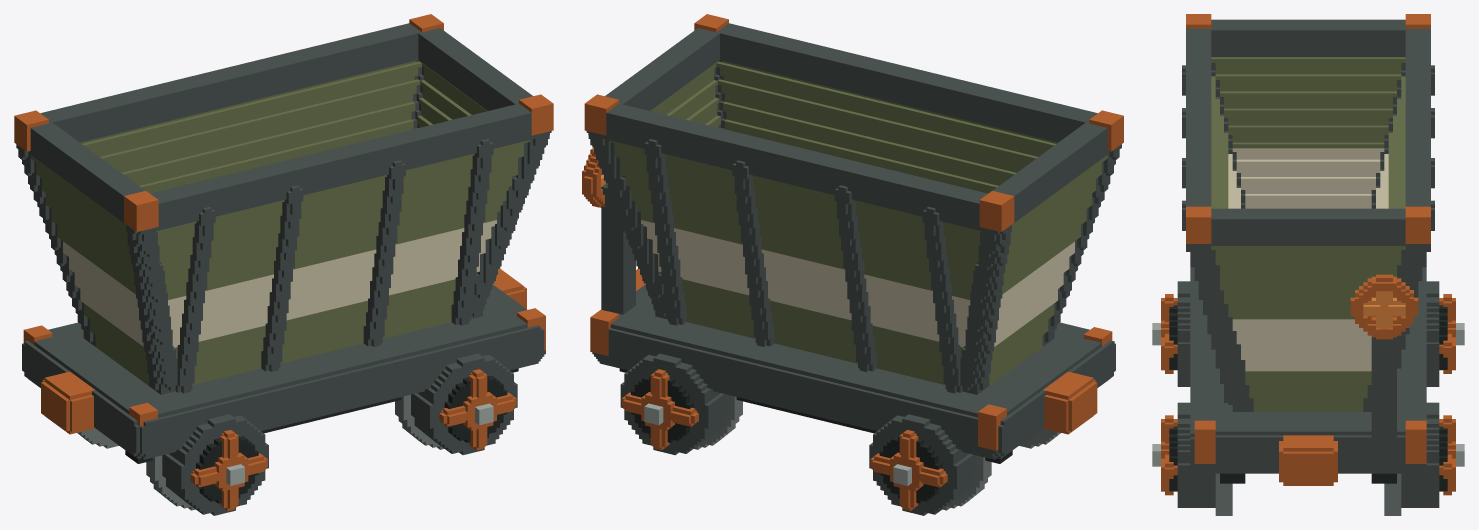
Rendered from mine_cart.glb.
The picture shows the model from 3 angles, left to right: view 1: azimuth 30°, elevation 25°; view 2: azimuth 150°, elevation 25°; view 3: azimuth 270°, elevation 25°; orthographic projection.
Visible parts, largest first — view 1: mine_cart; view 2: mine_cart; view 3: mine_cart.
Boxes of the visible parts, box(x1,y1,x2,y2) form: mine_cart: box(14, 14, 553, 515); mine_cart: box(582, 14, 1123, 515); mine_cart: box(1152, 14, 1464, 515).
Bounding box in the file's own units: 4.41 × 3.04 × 2.59.
